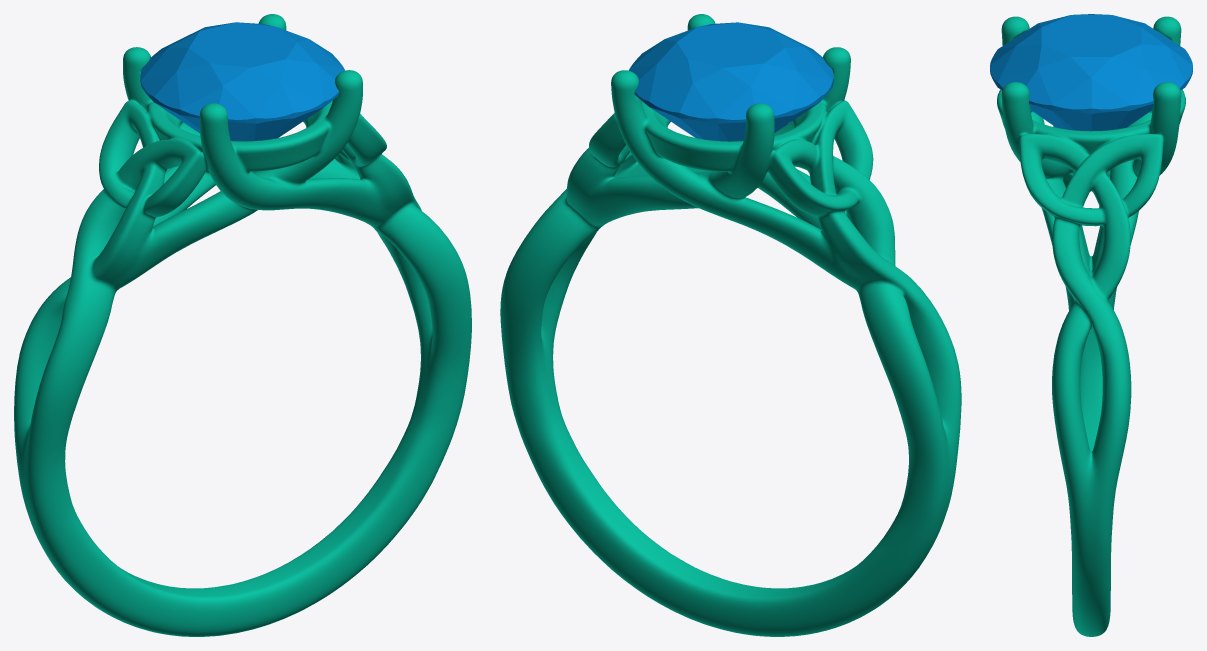
The model's file is BE1131_RD_200ct_RENDER.glb.
3 views of the same model, side by side, from view 1: azimuth 30°, elevation 25°; view 2: azimuth 150°, elevation 25°; view 3: azimuth 270°, elevation 25° (orthographic).
Visible parts, largest first — view 1: Metal 01, CS_Diamond_Round; view 2: Metal 01, CS_Diamond_Round; view 3: Metal 01, CS_Diamond_Round.
Boxes of the visible parts, x1,y1,x2,y2 form: Metal 01: (14, 14, 471, 636); CS_Diamond_Round: (140, 22, 344, 141); Metal 01: (500, 14, 961, 636); CS_Diamond_Round: (629, 22, 833, 141); Metal 01: (997, 16, 1185, 636); CS_Diamond_Round: (990, 14, 1192, 131).
Bounding box in the file's own units: 19.83 × 25.1 × 8.
